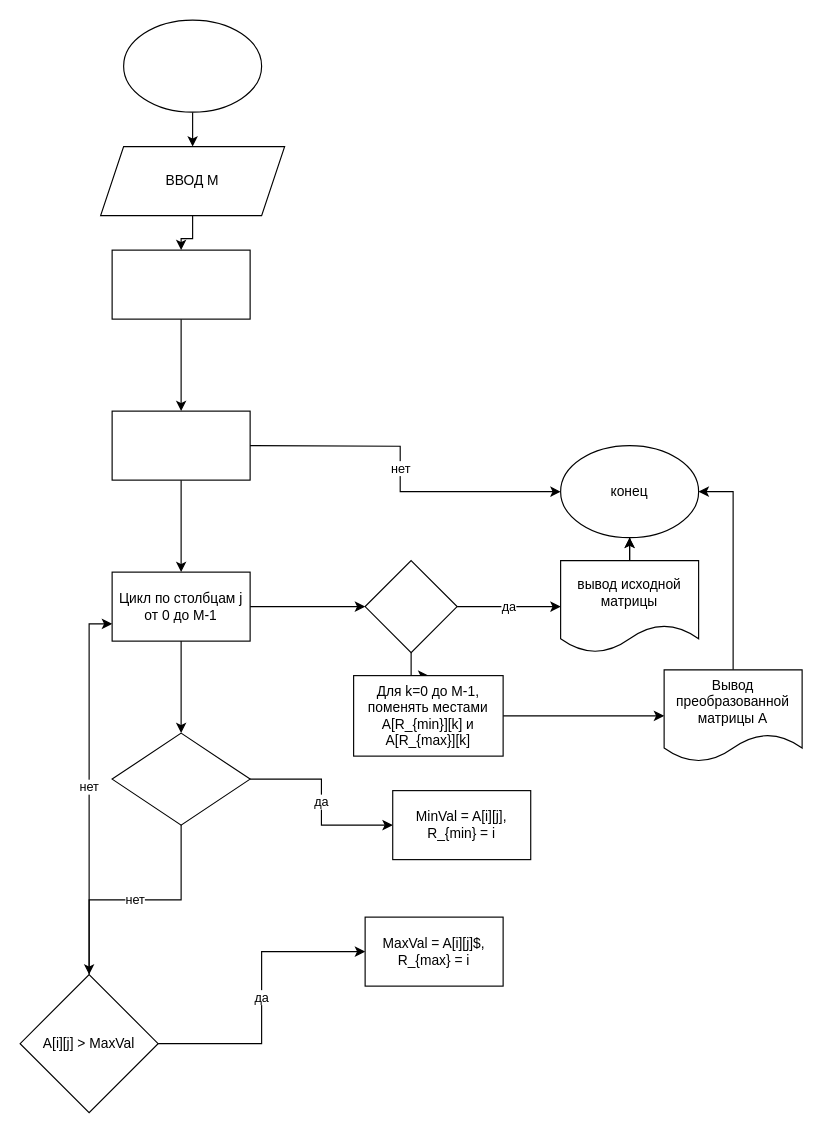
This 822x1133 diagram has some shape labels left out. The shapes that lost their labels are listed below. From the top down, each one's centre as x and y in pixels, then its label:
At point (192, 65): "начало".
At point (180, 284): "MinVal = A[0][0], MaxVal = A[0][0], R_{min} = 0, R_{max} = 0".
At point (180, 445): "Цикл по строкам i от 0 до M-1".
At point (410, 606): "R_{min} == R_{max}".
At point (180, 778): "A[i][j] < MinVal".
